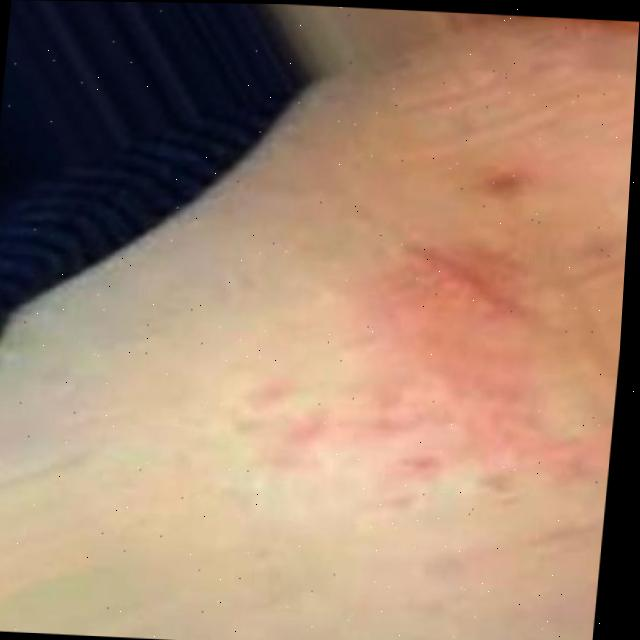Shingles: (227, 149, 631, 531)
